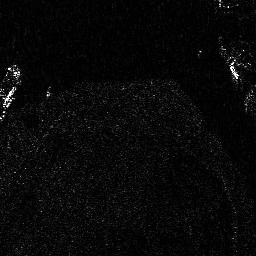ship: (2, 84, 16, 107)
